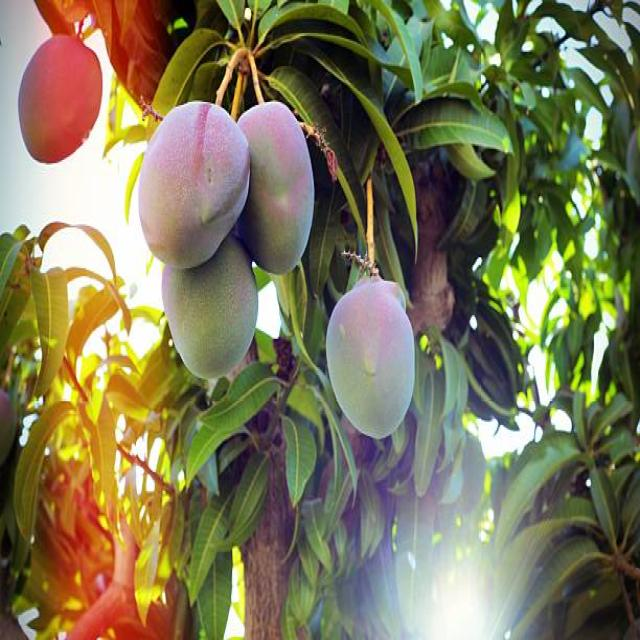mango: (139, 101, 250, 267), (326, 276, 415, 438), (162, 236, 258, 378), (239, 101, 314, 275), (19, 34, 102, 163)
